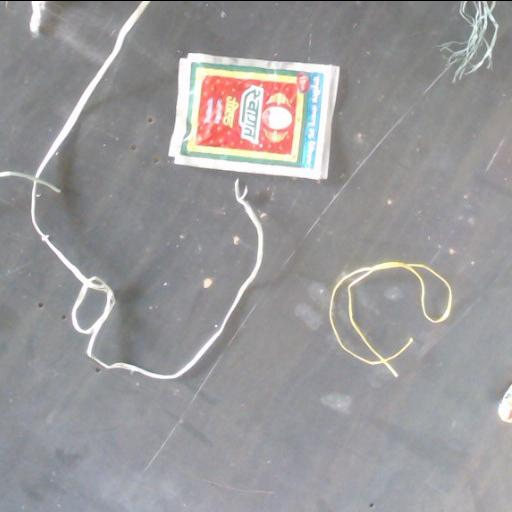conveyor belt: (0, 1, 511, 512)
cotton: (0, 1, 139, 170)
packet: (169, 53, 339, 179)
thread: (0, 1, 260, 377), (329, 261, 452, 376), (439, 1, 499, 81)
